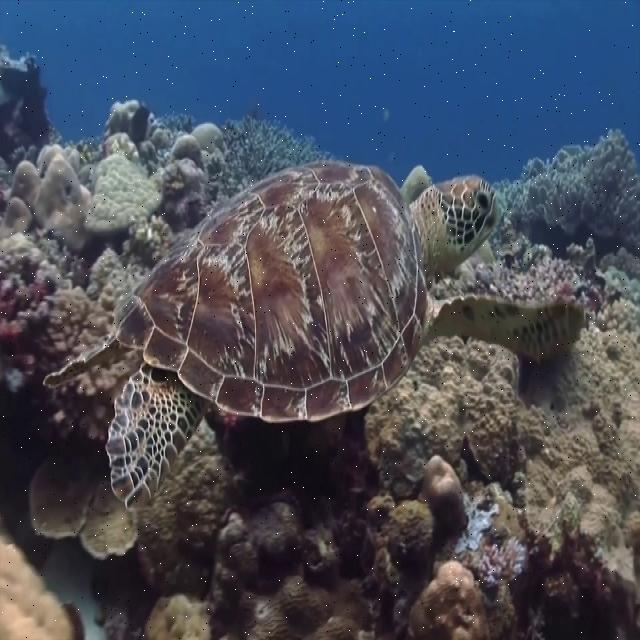fish: (44, 160, 585, 507)
reefs: (493, 127, 639, 256)
sea-floor: (365, 298, 639, 602), (3, 143, 95, 250)
